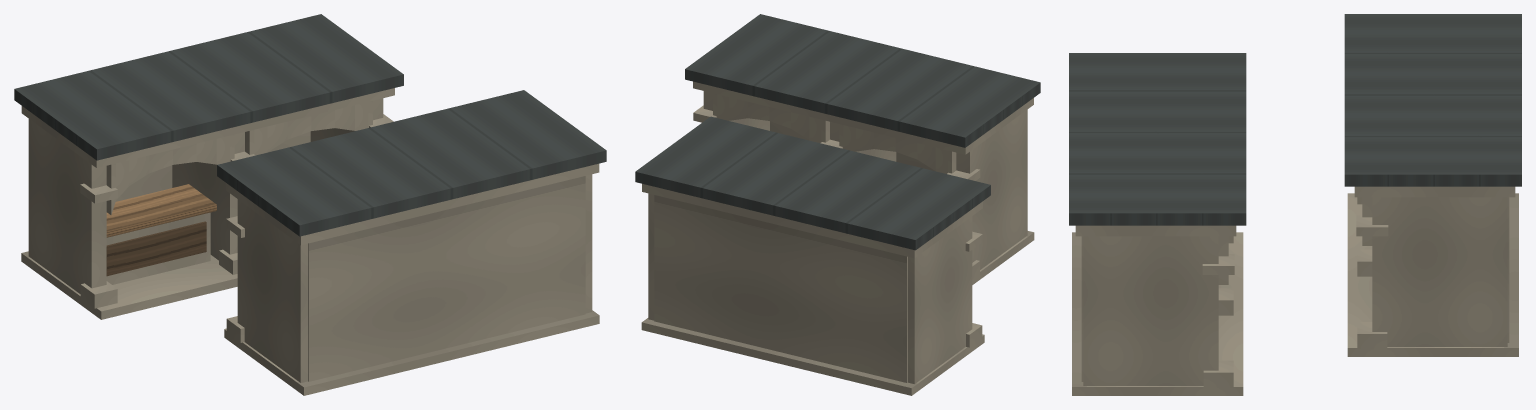
3 renders of one model, left to right at view 1: azimuth 30°, elevation 25°; view 2: azimuth 150°, elevation 25°; view 3: azimuth 270°, elevation 25°, orthographic. The views are drawn at different scales.
Visible parts, largest first — view 1: ndjamena; view 2: ndjamena; view 3: ndjamena.
Boxes of the visible parts, x1,y1,x2,y2 form: ndjamena: (14,14,606,395); ndjamena: (635,14,1040,395); ndjamena: (1069,14,1521,395).
Size of the model in its own units: 5.65 by 2.45 by 5.42.
1 material, 1 textured.
